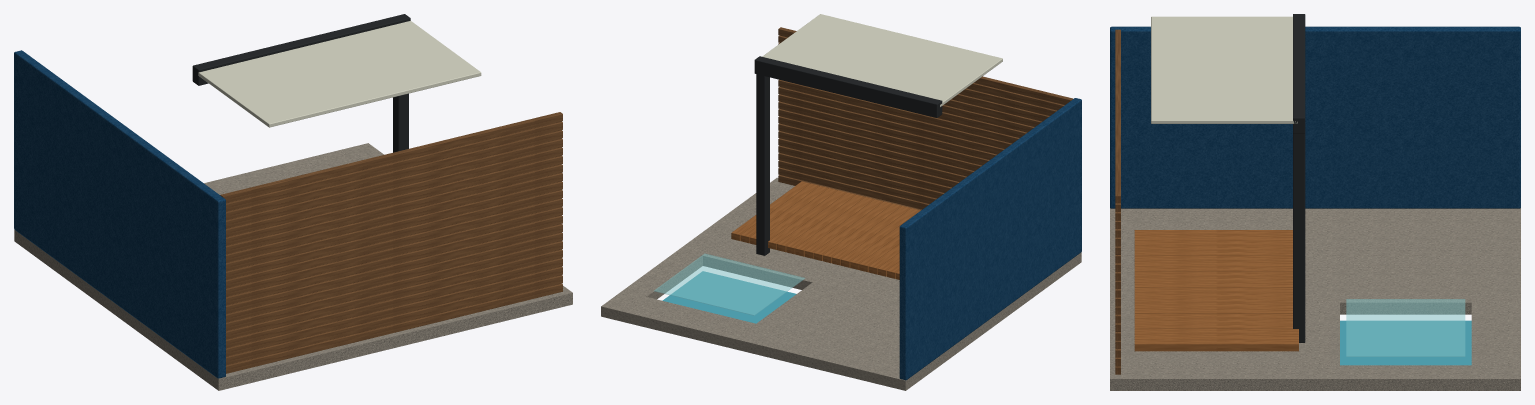
File: pilot.glb
3 views of the same model, side by side, from view 1: azimuth 30°, elevation 25°; view 2: azimuth 150°, elevation 25°; view 3: azimuth 270°, elevation 25° (orthographic). The views are drawn at different scales.
Visible parts, largest first — view 1: PILOT_STATIC; view 2: PILOT_STATIC, WATER; view 3: PILOT_STATIC, WATER.
Boxes of the visible parts, <box> form: PILOT_STATIC: <box>14,14,572,390</box>; PILOT_STATIC: <box>601,14,1081,390</box>; WATER: <box>654,253,804,315</box>; PILOT_STATIC: <box>1110,14,1520,390</box>; WATER: <box>1346,299,1465,356</box>.
Bounding box in the file's own units: 5.01 × 3.36 × 5.
Materials: 9 (4 with a texture image).
